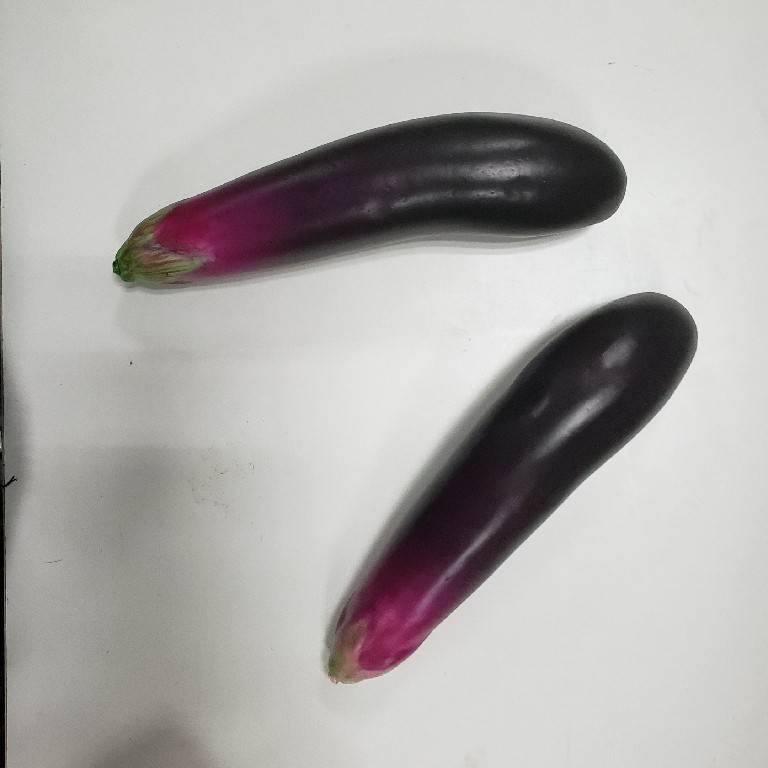fruit_eggplant: (320, 287, 702, 688), (109, 108, 631, 292)
